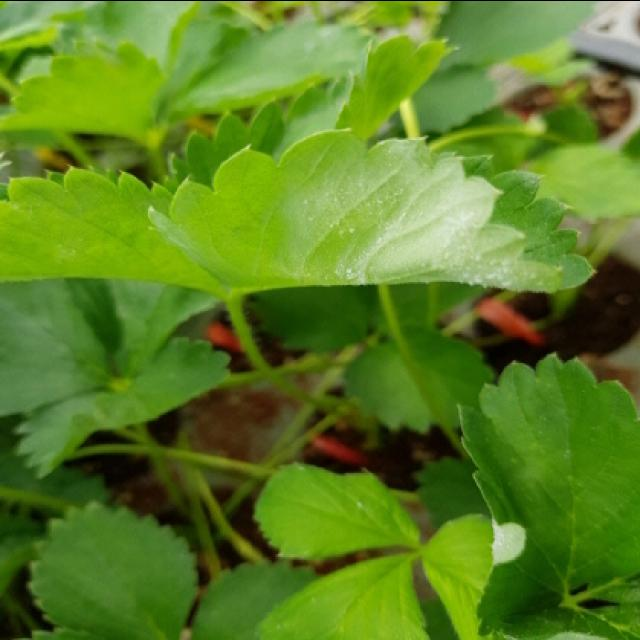Powdery Mildew Leaf: (147, 124, 601, 295), (456, 349, 638, 640)
